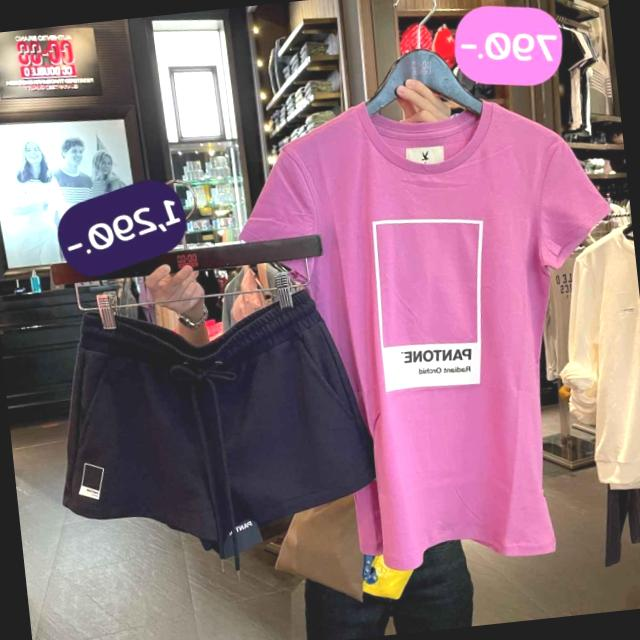Tshirt: (233, 63, 640, 591)
short: (21, 276, 390, 584)
